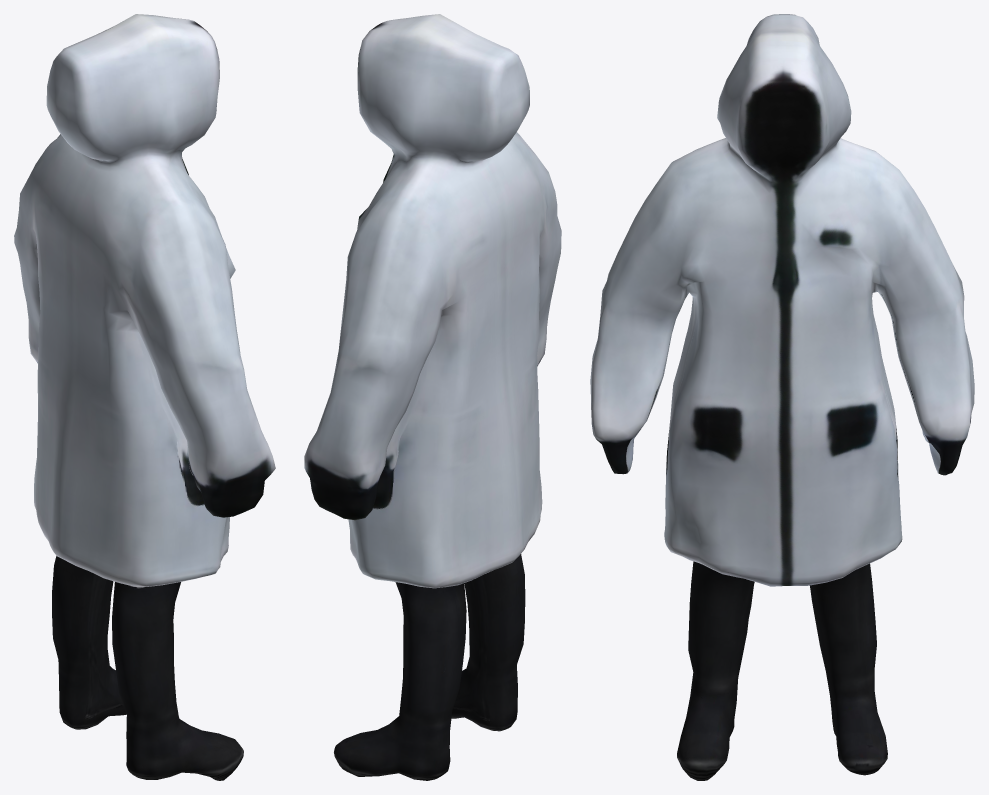
File: pedestrian.glb
The picture shows the model from 3 angles, left to right: view 1: azimuth 30°, elevation 25°; view 2: azimuth 150°, elevation 25°; view 3: azimuth 270°, elevation 25°; orthographic projection.
Visible parts, largest first — view 1: mesh; view 2: mesh; view 3: mesh.
Boxes of the visible parts, x1,y1,x2,y2 form: mesh: (14,14,275,780); mesh: (304,14,561,780); mesh: (590,14,974,780).
Bounding box in the file's own units: 0.2203 × 0.9994 × 0.4778.
Materials: 1 (1 with a texture image).
